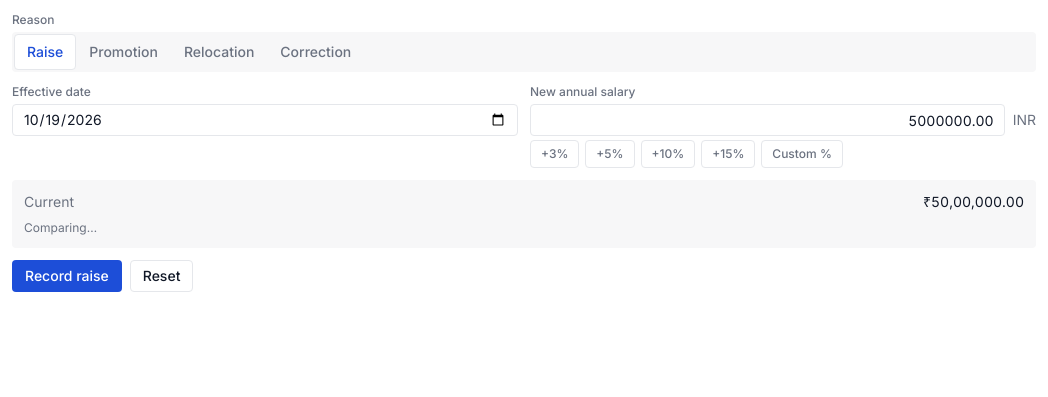
Test: SalaryChangeForm › does not accept the pre-filled current amount as a raise
Step 1. Click the button "Record raise" → (67, 276), box 12,260 -> 122,292
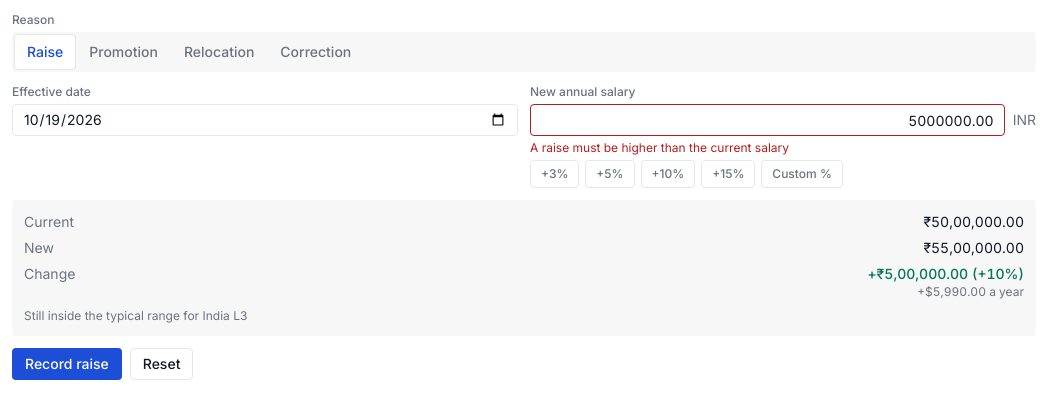
Now the text "A raise must be higher than the current salary" is shown, box 530,140 -> 789,155
